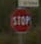stop: (9, 7, 32, 34)
